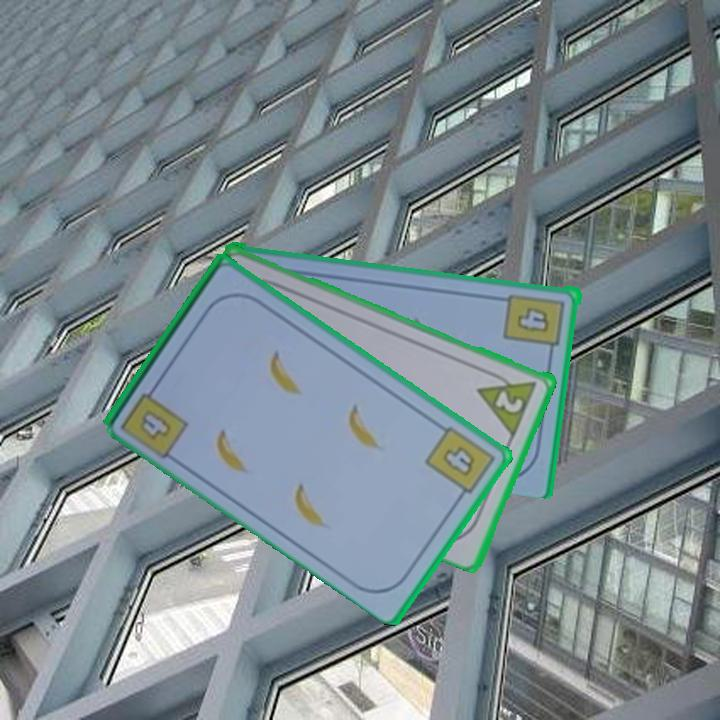2p: (473, 365, 541, 438)
4b: (421, 421, 498, 504), (502, 289, 568, 357), (136, 406, 175, 443)
